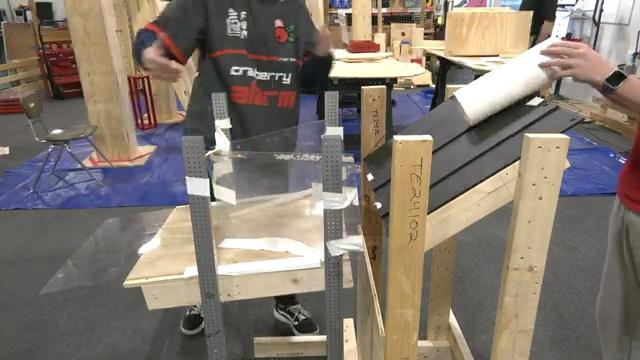CORAL: (451, 34, 566, 126)
